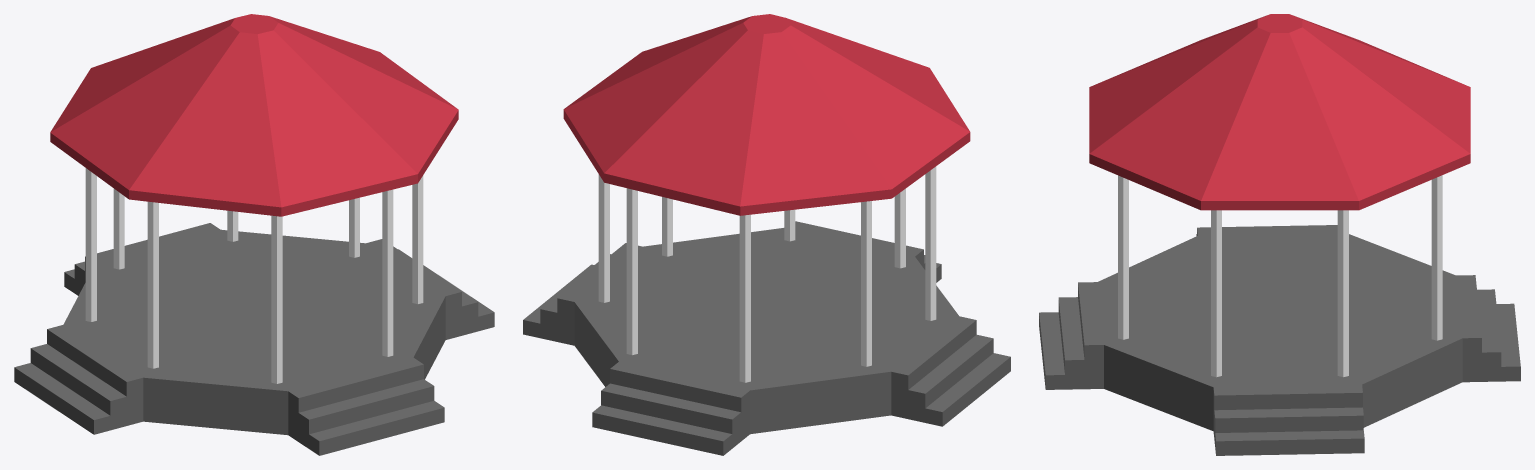
File: 025 Gazebo.FBX
3 renders of one model, left to right at view 1: azimuth 30°, elevation 25°; view 2: azimuth 150°, elevation 25°; view 3: azimuth 270°, elevation 25°, orthographic.
Visible parts, largest first — view 1: Base, Roof, Post_5, Post_6, Post_4, Post_8, Post_3, Post_7, Post_2; view 2: Base, Roof, Post_7, Post_1, Post_8, Post_6, Post_2, Post_5, Post_3; view 3: Base, Roof, Post_2, Post_1, Post_3, Post_4.
Boxes of the visible parts, x1,y1,x2,y2 form: Base: (14, 223, 494, 455); Roof: (50, 14, 458, 216); Post_5: (271, 215, 282, 383); Post_6: (147, 201, 158, 368); Post_4: (382, 189, 393, 356); Post_8: (85, 168, 96, 321); Post_3: (412, 175, 423, 304); Post_7: (113, 188, 124, 269); Post_2: (349, 197, 359, 257); Base: (523, 221, 1010, 455); Roof: (563, 14, 970, 215); Post_7: (739, 214, 750, 382); Post_1: (626, 188, 637, 355); Post_8: (861, 201, 871, 366); Post_6: (925, 166, 936, 320); Post_2: (598, 174, 609, 302); Post_5: (894, 188, 905, 268); Post_3: (662, 197, 672, 256); Base: (1039, 225, 1520, 455); Roof: (1089, 14, 1470, 210); Post_2: (1337, 210, 1348, 377); Post_1: (1431, 175, 1442, 340); Post_3: (1211, 210, 1221, 377); Post_4: (1118, 175, 1128, 339).
Bounding box in the file's own units: 451 × 342 × 451.
